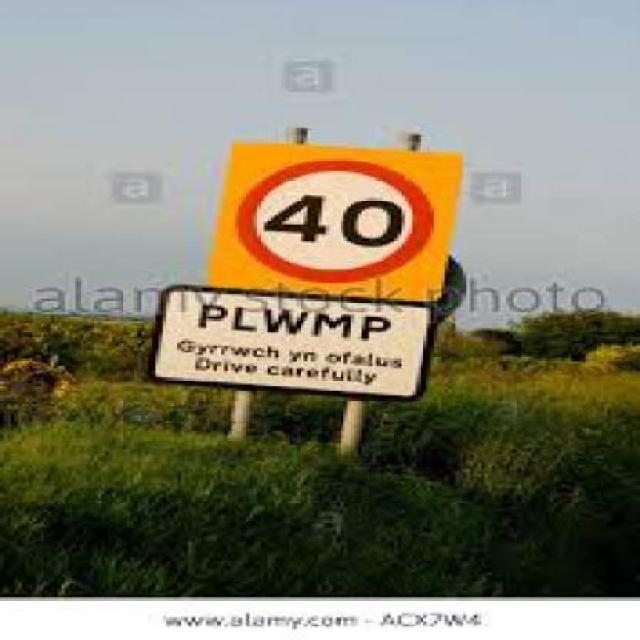forb_speed_over_40: (245, 159, 422, 278)
